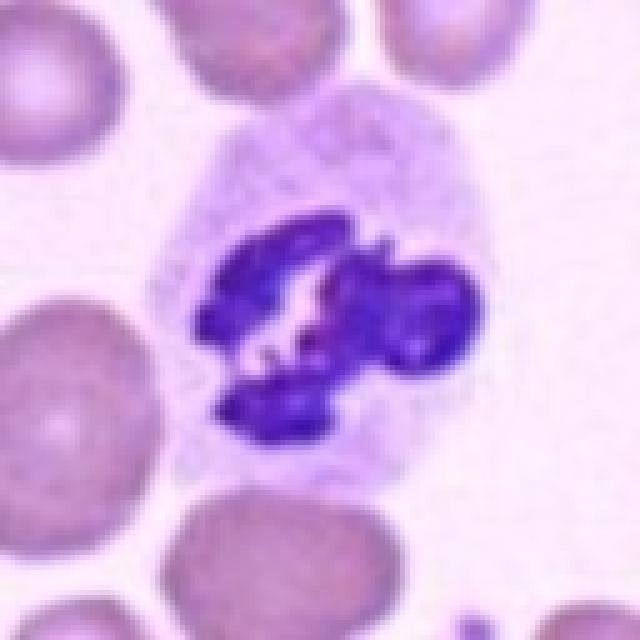neutro: (125, 33, 568, 493)
